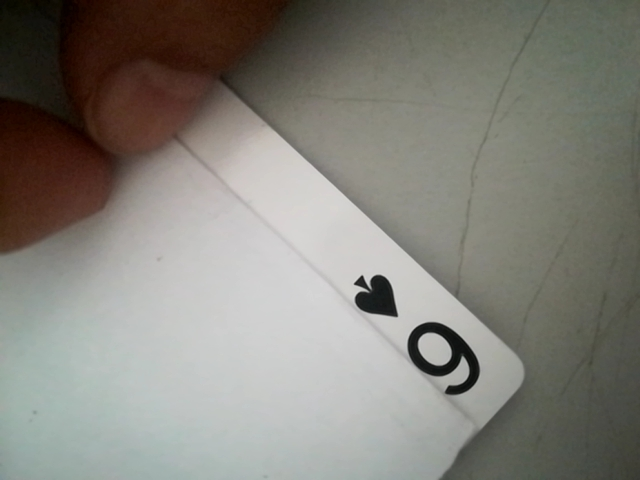ht 6: (342, 270, 495, 415)
